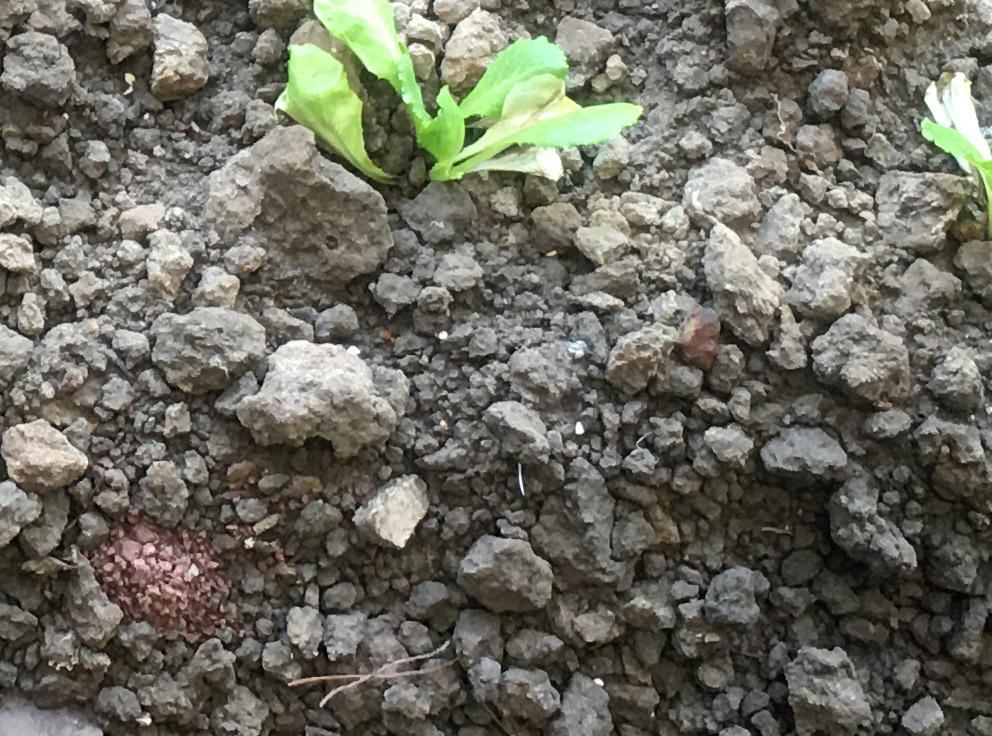block: (184, 128, 394, 292), (245, 337, 389, 459), (138, 307, 269, 398), (701, 219, 781, 344), (809, 314, 913, 408), (780, 640, 870, 736), (872, 169, 977, 249), (790, 234, 870, 312), (148, 10, 213, 104), (1, 32, 75, 107)
